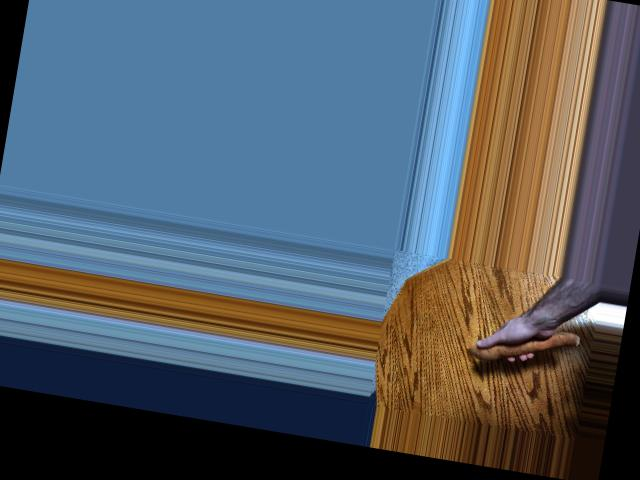sweet_potato: (469, 313, 583, 379)
